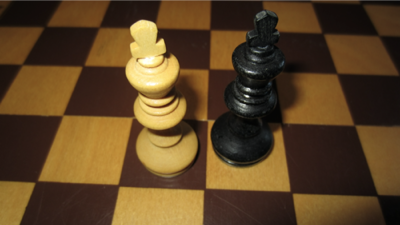black-king: (209, 9, 287, 169)
white-king: (125, 18, 202, 180)
